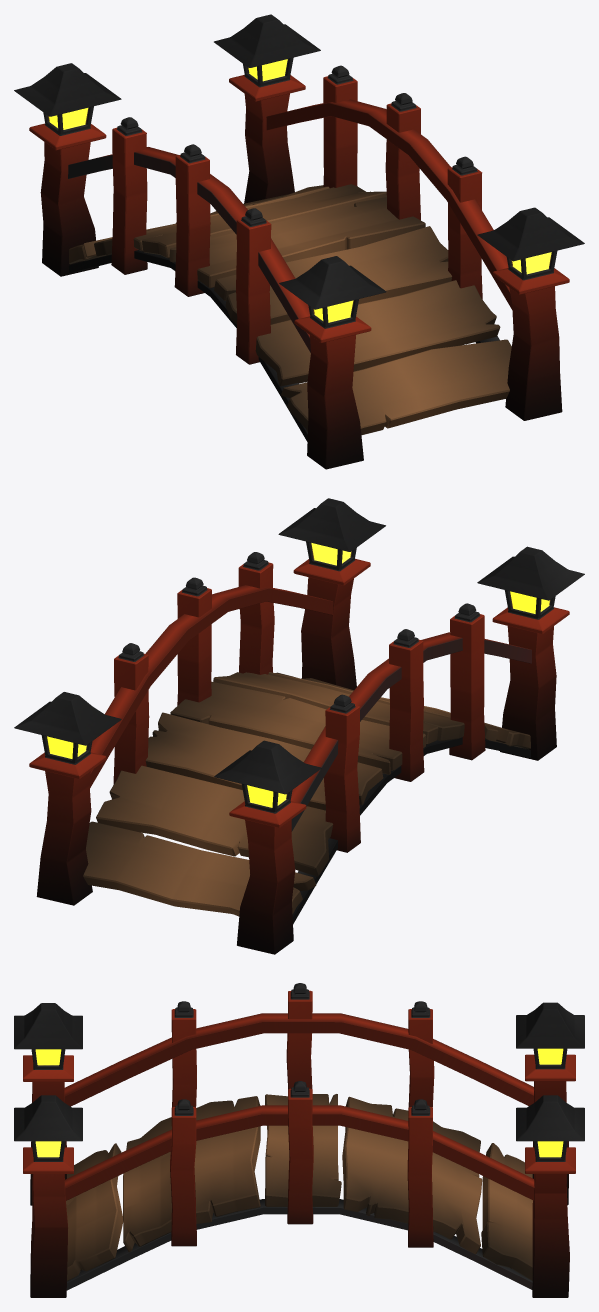
File: Dream2_Wooden_Bridge.glb
3 views of the same model, one above another, from view 1: azimuth 30°, elevation 25°; view 2: azimuth 150°, elevation 25°; view 3: azimuth 270°, elevation 25° (orthographic). The views are drawn at different scales.
Parts seen in each view (by area): view 1: Planks_0, Lantern_Post.01_10, Lantern_Post.03_9, Rails_3, Lantern_Post.04_12, Lantern_Post.02_11, Middle_Post.06_8, Middle_Post.03_4, Middle_Post.04_6, Middle_Post.05_7, Middle_Post.01_2, Middle_Post.02_5 (+1 smaller); view 2: Planks_0, Lantern_Post.04_12, Lantern_Post.02_11, Rails_3, Lantern_Post.03_9, Lantern_Post.01_10, Middle_Post.04_6, Middle_Post.06_8, Middle_Post.03_4, Middle_Post.02_5, Middle_Post.01_2, Middle_Post.05_7 (+1 smaller); view 3: Planks_0, Rails_3, Lantern_Post.02_11, Lantern_Post.01_10, Lantern_Post.03_9, Lantern_Post.04_12, Underside_1, Middle_Post.05_7, Middle_Post.02_5, Middle_Post.01_2, Middle_Post.03_4, Middle_Post.04_6 (+1 smaller).
Part boxes in pixels (x1=…): Planks_0: x1=69, y1=184, x2=511, y2=435; Lantern_Post.01_10: x1=477, y1=207, x2=584, y2=420; Lantern_Post.03_9: x1=279, y1=256, x2=386, y2=469; Rails_3: x1=68, y1=99, x2=512, y2=352; Lantern_Post.04_12: x1=14, y1=63, x2=121, y2=276; Lantern_Post.02_11: x1=214, y1=14, x2=320, y2=203; Middle_Post.06_8: x1=111, y1=117, x2=147, y2=274; Middle_Post.03_4: x1=174, y1=144, x2=210, y2=296; Middle_Post.04_6: x1=236, y1=208, x2=271, y2=364; Middle_Post.05_7: x1=323, y1=65, x2=357, y2=188; Middle_Post.01_2: x1=385, y1=93, x2=420, y2=220; Middle_Post.02_5: x1=447, y1=156, x2=482, y2=299; Planks_0: x1=83, y1=672, x2=530, y2=916; Lantern_Post.04_12: x1=214, y1=740, x2=321, y2=954; Lantern_Post.02_11: x1=14, y1=692, x2=121, y2=905; Rails_3: x1=89, y1=585, x2=531, y2=831; Lantern_Post.03_9: x1=477, y1=546, x2=584, y2=760; Lantern_Post.01_10: x1=278, y1=498, x2=385, y2=690; Middle_Post.04_6: x1=449, y1=603, x2=485, y2=760; Middle_Post.06_8: x1=324, y1=694, x2=360, y2=852; Middle_Post.03_4: x1=389, y1=629, x2=424, y2=781; Middle_Post.02_5: x1=238, y1=552, x2=274, y2=674; Middle_Post.01_2: x1=177, y1=577, x2=211, y2=705; Middle_Post.05_7: x1=113, y1=643, x2=149, y2=784; Planks_0: x1=66, y1=1094, x2=532, y2=1281; Rails_3: x1=64, y1=1013, x2=534, y2=1200; Lantern_Post.02_11: x1=516, y1=1095, x2=584, y2=1297; Lantern_Post.01_10: x1=14, y1=1095, x2=82, y2=1297; Lantern_Post.03_9: x1=14, y1=1003, x2=82, y2=1205; Lantern_Post.04_12: x1=516, y1=1002, x2=584, y2=1205; Underside_1: x1=66, y1=1199, x2=532, y2=1290; Middle_Post.05_7: x1=407, y1=1099, x2=433, y2=1247; Middle_Post.02_5: x1=170, y1=1099, x2=196, y2=1246; Middle_Post.01_2: x1=287, y1=1081, x2=313, y2=1224; Middle_Post.03_4: x1=286, y1=983, x2=312, y2=1089; Middle_Post.04_6: x1=171, y1=1001, x2=196, y2=1107.
Bounding box in the file's own units: 4.34 × 3.35 × 8.3.
Materials: 3 (1 with a texture image).
